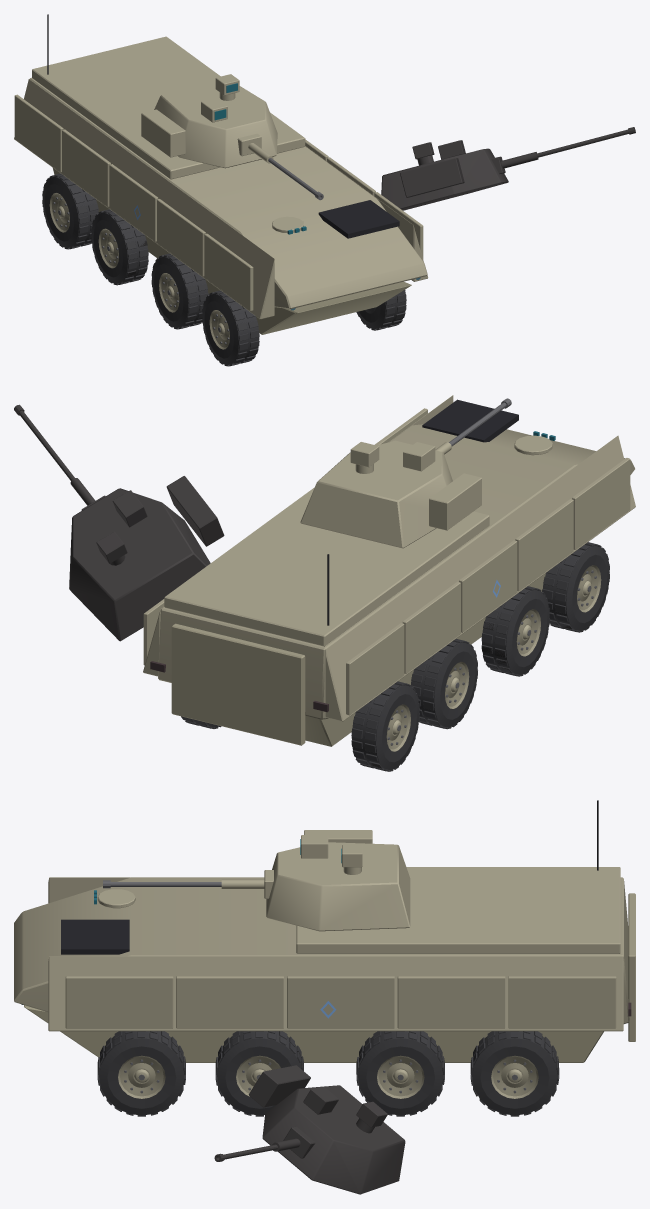
The model's file is apc__boxer_crv.glb.
The picture shows the model from 3 angles, top to bottom: view 1: azimuth 30°, elevation 25°; view 2: azimuth 150°, elevation 25°; view 3: azimuth 270°, elevation 25°; orthographic projection. The views are drawn at different scales.
Parts seen in each view (by area): view 1: Hull_Mesh, Turret_Mesh, Wreck, Wheel_L3_Mesh, Wheel_L1_Mesh, Wheel_L2_Mesh, Wheel_L0_Mesh, Wheel_R3_Mesh, Gun_Mesh; view 2: Hull_Mesh, Wreck, Turret_Mesh, Wheel_L0_Mesh, Wheel_L2_Mesh, Wheel_L3_Mesh, Wheel_L1_Mesh, Gun_Mesh; view 3: Hull_Mesh, Wreck, Turret_Mesh, Wheel_R0_Mesh, Wheel_R3_Mesh, Wheel_R1_Mesh, Wheel_R2_Mesh, Gun_Mesh.
Boxes of the visible parts, x1=… form: Hull_Mesh: x1=14, y1=14, x2=428, y2=334; Turret_Mesh: x1=141, y1=74, x2=277, y2=168; Wreck: x1=57, y1=127, x2=635, y2=361; Wheel_L3_Mesh: x1=202, y1=290, x2=259, y2=366; Wheel_L1_Mesh: x1=91, y1=209, x2=148, y2=285; Wheel_L2_Mesh: x1=151, y1=253, x2=208, y2=329; Wheel_L0_Mesh: x1=42, y1=173, x2=98, y2=249; Wheel_R3_Mesh: x1=356, y1=290, x2=406, y2=330; Gun_Mesh: x1=237, y1=133, x2=323, y2=200; Hull_Mesh: x1=143, y1=395, x2=635, y2=746; Wreck: x1=14, y1=404, x2=589, y2=768; Turret_Mesh: x1=300, y1=440, x2=481, y2=548; Wheel_L0_Mesh: x1=351, y1=681, x2=419, y2=771; Wheel_L2_Mesh: x1=481, y1=586, x2=549, y2=676; Wheel_L3_Mesh: x1=542, y1=542, x2=609, y2=632; Wheel_L1_Mesh: x1=411, y1=638, x2=477, y2=729; Gun_Mesh: x1=435, y1=398, x2=511, y2=454; Hull_Mesh: x1=14, y1=800, x2=635, y2=1062; Wreck: x1=106, y1=1051, x2=493, y2=1194; Turret_Mesh: x1=266, y1=830, x2=410, y2=931; Wheel_R0_Mesh: x1=470, y1=1031, x2=559, y2=1116; Wheel_R3_Mesh: x1=97, y1=1031, x2=185, y2=1116; Wheel_R1_Mesh: x1=356, y1=1031, x2=444, y2=1116; Wheel_R2_Mesh: x1=215, y1=1031, x2=303, y2=1116; Gun_Mesh: x1=103, y1=870, x2=273, y2=898.
Size of what is drawn, in the model's own units: 8 by 3.39 by 8.17.
